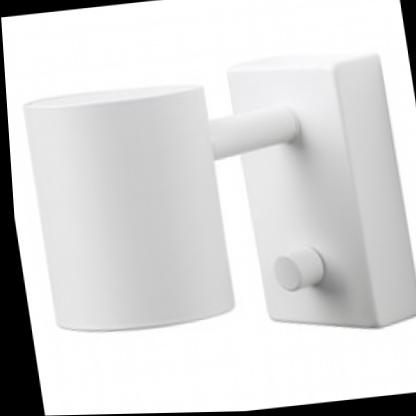Lamp: (1, 6, 416, 406)
